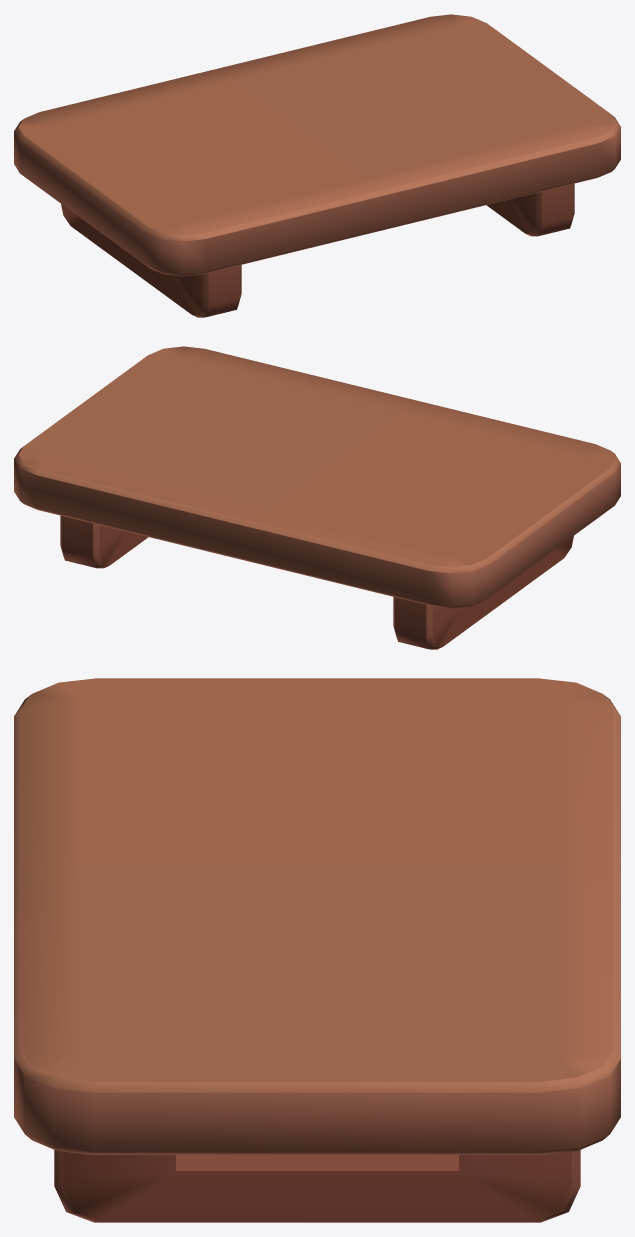
File: table_low.glb
3 views of the same model, one above another, from view 1: azimuth 30°, elevation 25°; view 2: azimuth 150°, elevation 25°; view 3: azimuth 270°, elevation 25° (orthographic). The views are drawn at different scales.
Parts seen in each view (by area): view 1: table_low; view 2: table_low; view 3: table_low.
Boxes of the visible parts, x1,y1,x2,y2 form: table_low: [14, 14, 620, 317]; table_low: [14, 346, 620, 649]; table_low: [14, 678, 620, 1222].
Bounding box in the file's own units: 2.4 × 0.4998 × 1.5.
Materials: 1 (1 with a texture image).
